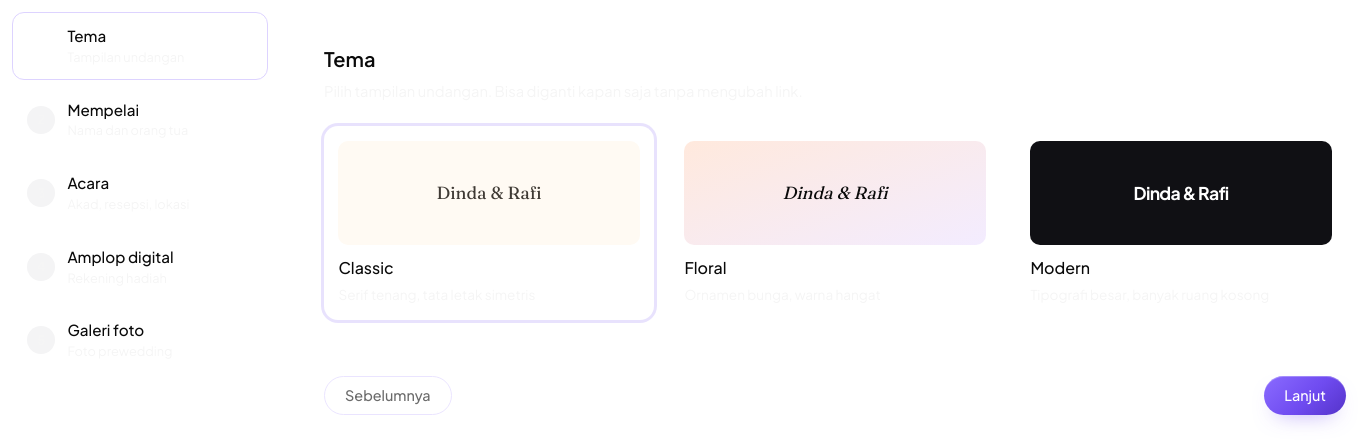
BuilderWizard › goes back a step with the previous button
Click the button "2 Mempelai Nama dan orang tua": (140, 120) [12, 86, 268, 154]
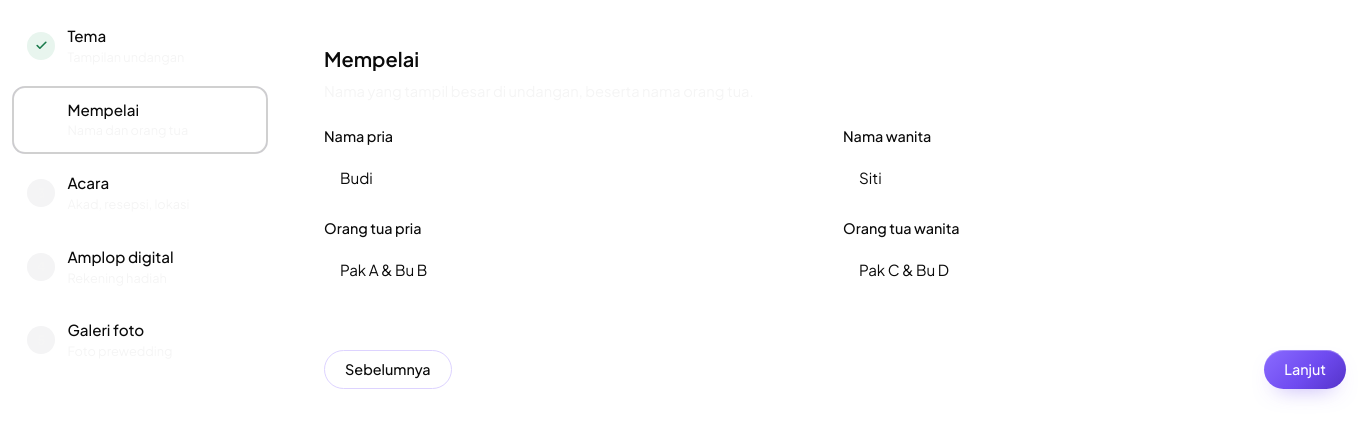
Expected: the heading "Mempelai" is shown, [324, 46, 419, 71]
Click the button "Sebelumnya": (388, 369) [324, 350, 452, 389]
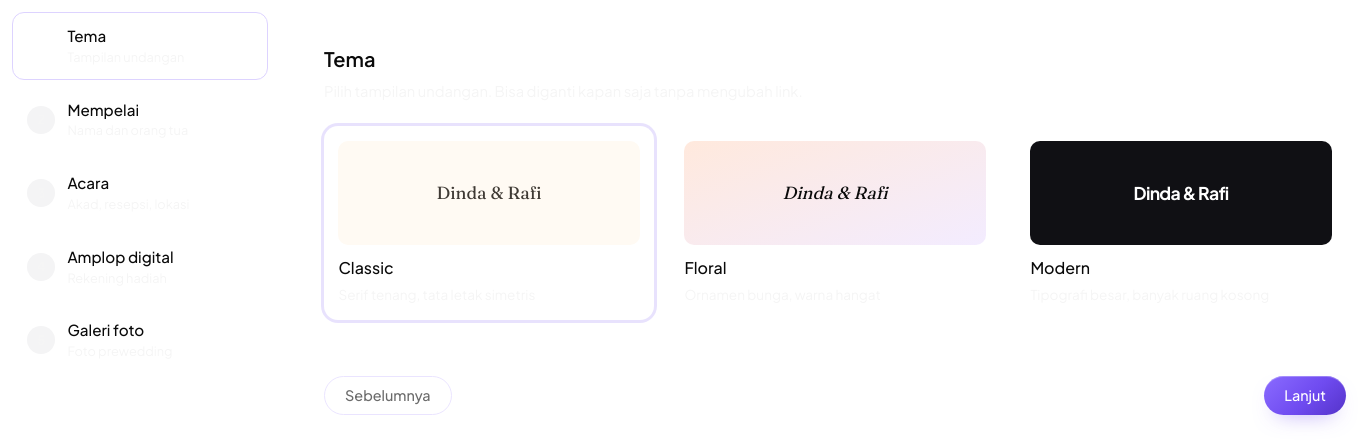
Expected: the heading "Tema" is shown, [324, 46, 376, 71]
Expected: the button "Sebelumnya" is disabled, [324, 376, 452, 415]
